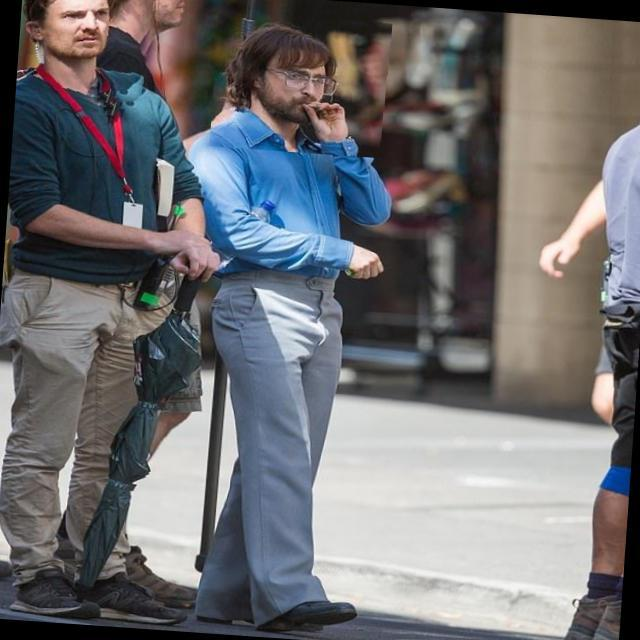cigarette: (300, 84, 336, 104)
